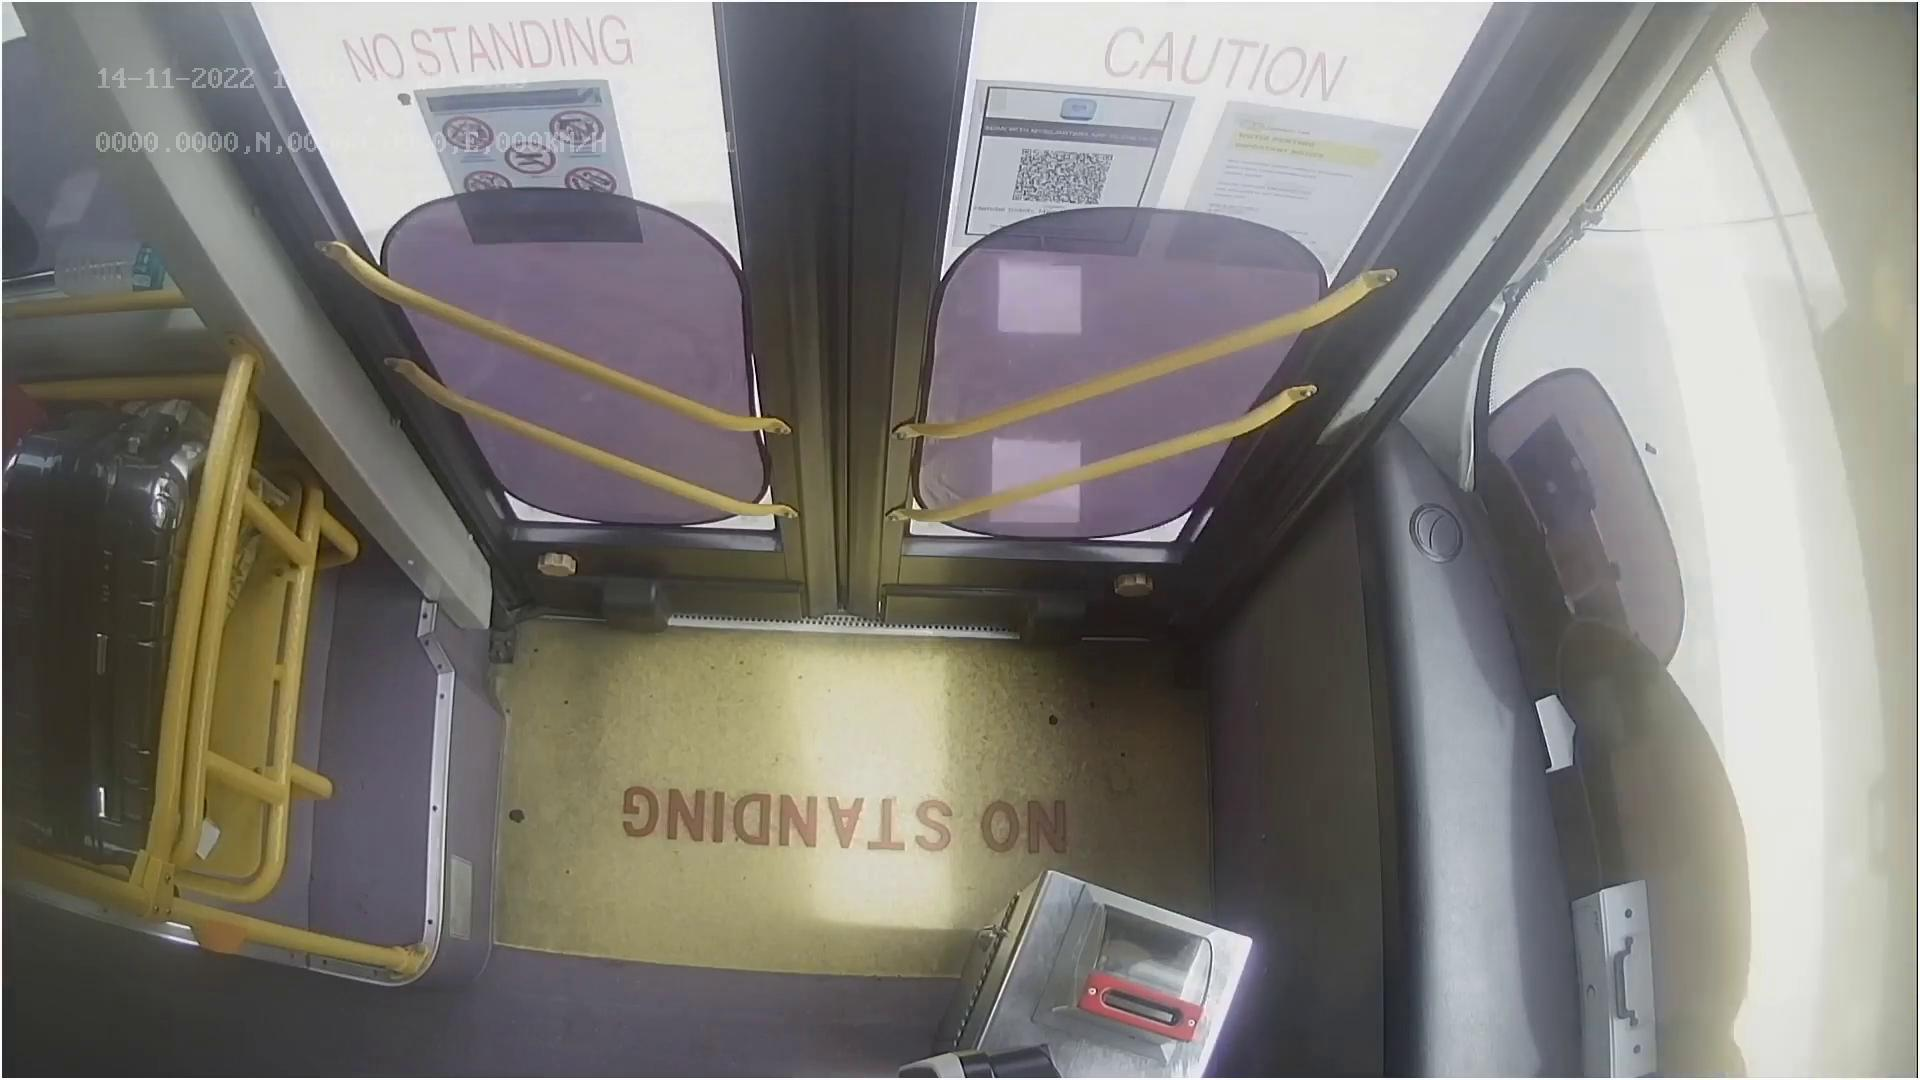close: (286, 0, 1435, 173)
